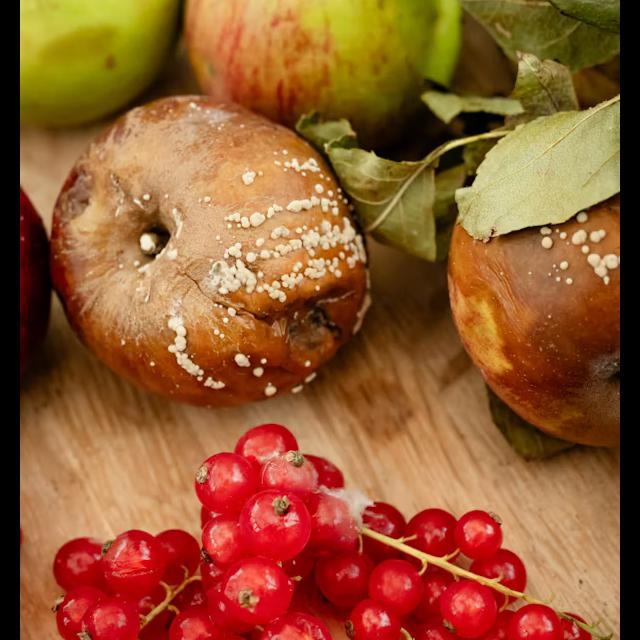food_waste: (67, 106, 369, 384), (51, 496, 583, 640), (435, 110, 620, 393), (205, 0, 452, 115), (20, 0, 194, 101), (385, 0, 620, 71), (441, 0, 619, 80), (245, 486, 337, 585)
